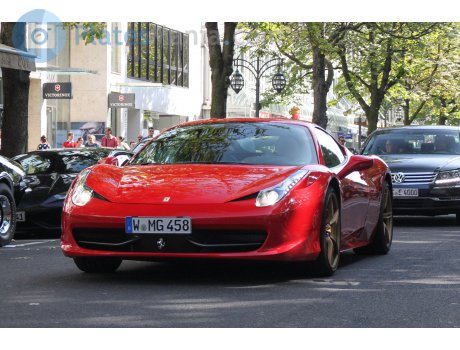License Plates: (131, 215, 184, 228)
